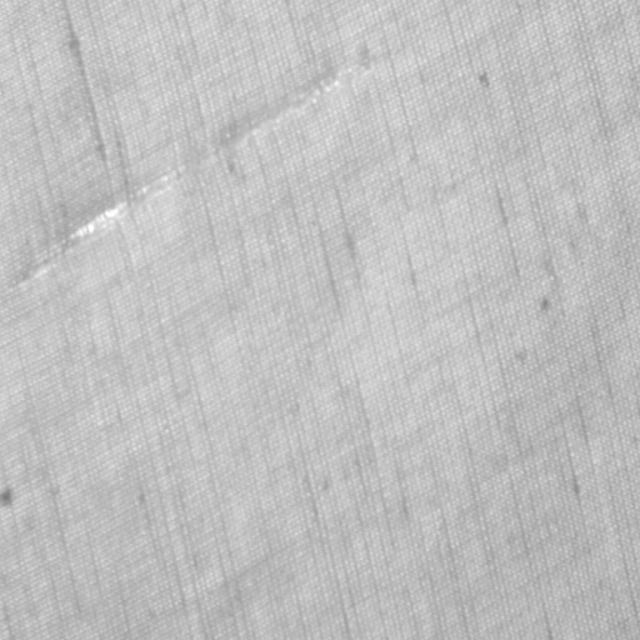thread error: (2, 60, 358, 290)
